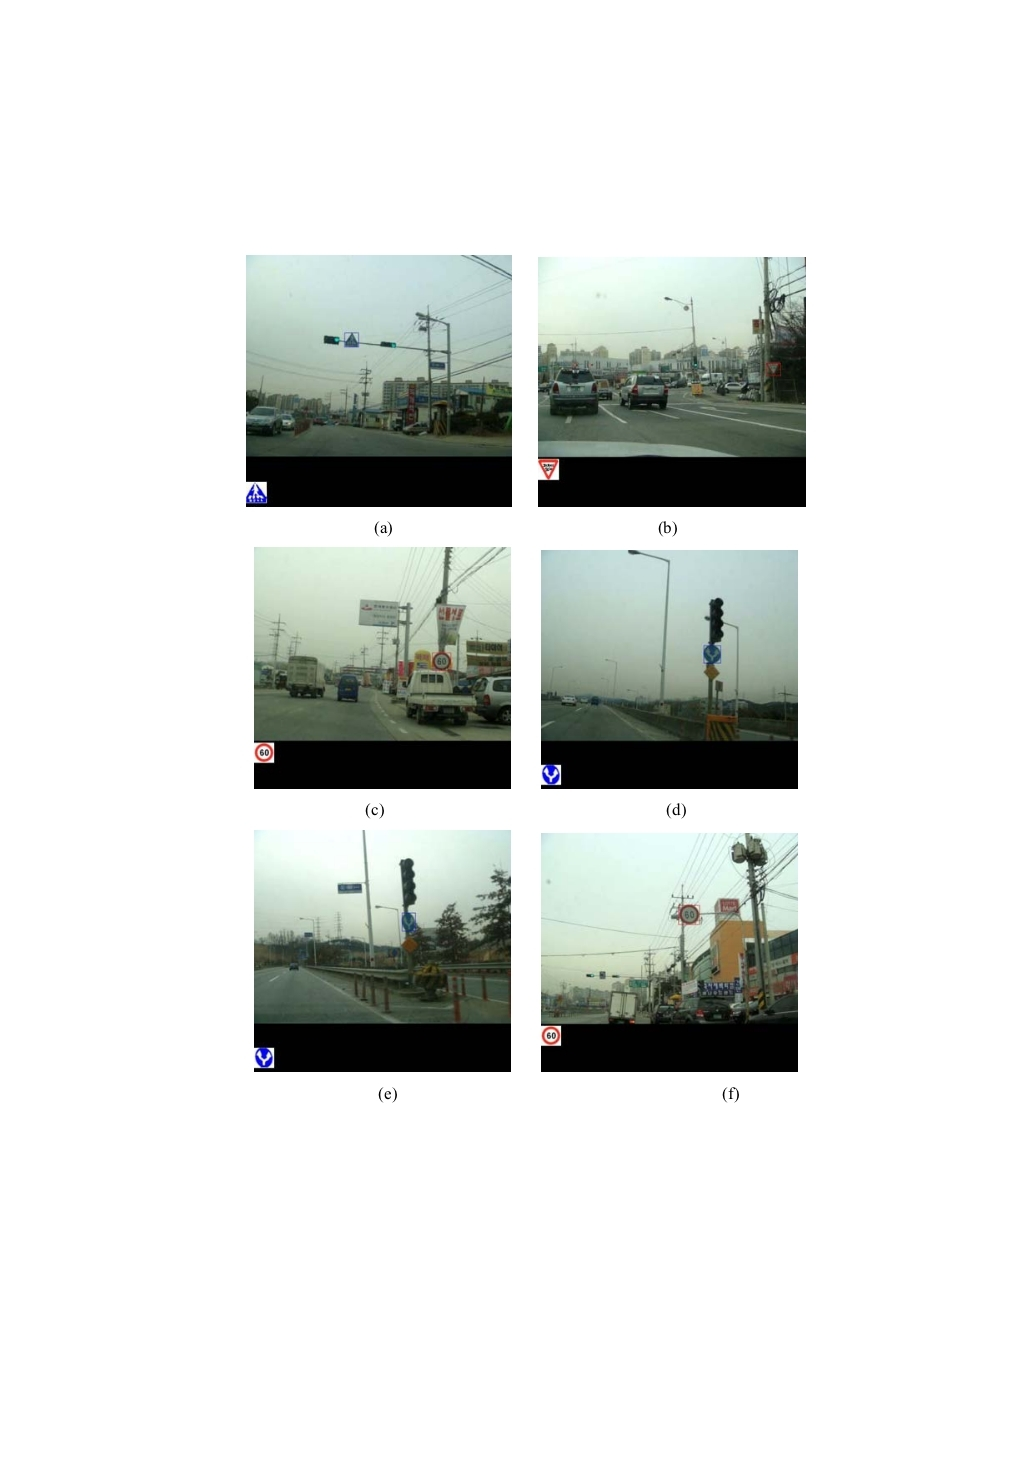figure: (538, 255, 805, 507), (246, 255, 512, 507), (254, 545, 510, 789), (254, 828, 510, 1072), (541, 548, 797, 789), (541, 832, 797, 1072)
